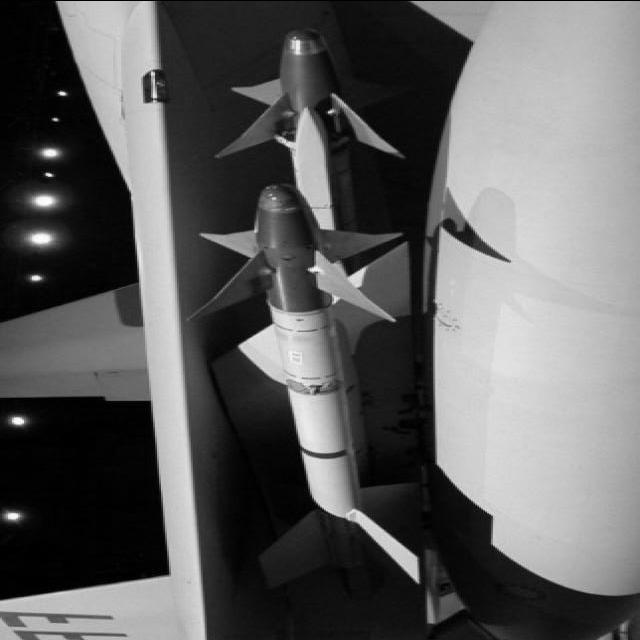Missile: (197, 187, 412, 520)
